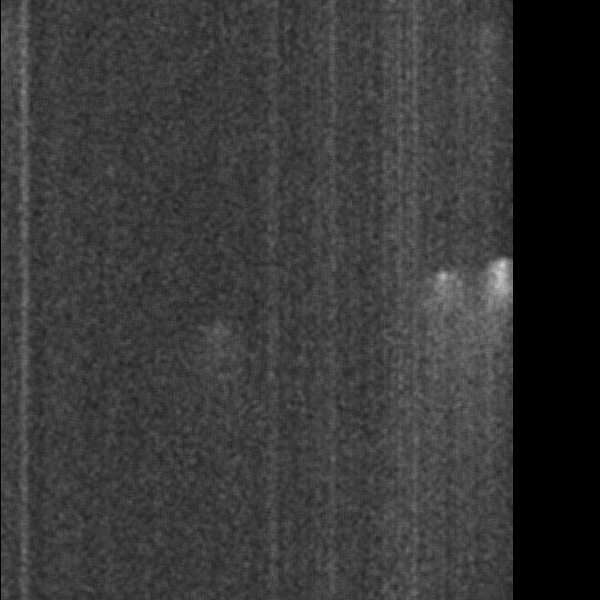spark: (196, 316, 232, 413), (487, 254, 512, 362), (429, 264, 456, 329), (473, 21, 493, 72), (407, 587, 421, 598)
